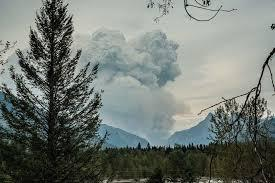yanwu: (72, 28, 185, 142)
